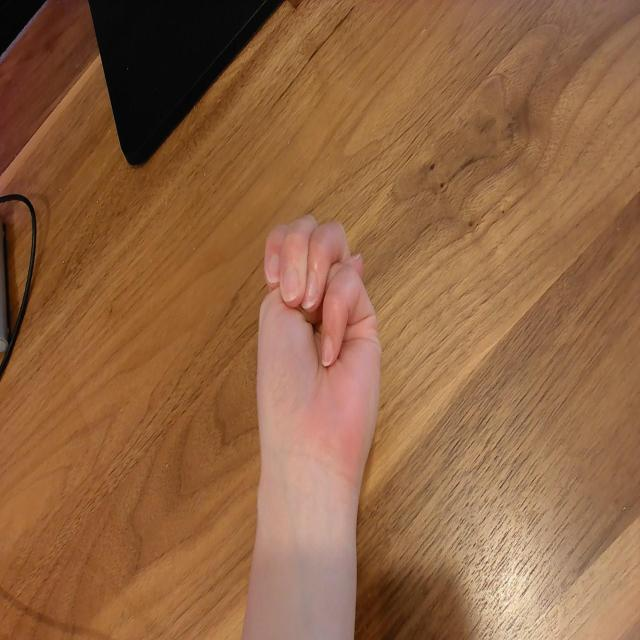M: (250, 207, 385, 524)
